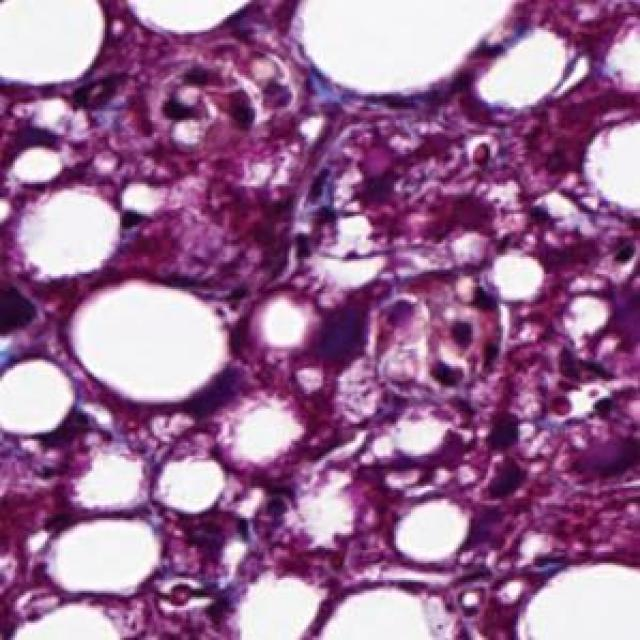inflammation: (418, 278, 510, 392), (157, 60, 266, 137), (542, 340, 634, 430)
